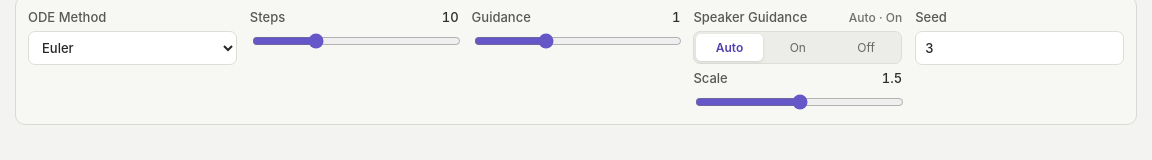
Scenario: GeneratorSettingsPanel › offers Auto, On and Off while showing the resolved Auto state
The image size is (1152, 160).
Expected: the text "Auto · On" is shown, [849,10,902,24]
Expected: the slider named "Scale" is enabled, [695,94,904,110]
Step 1. Click the button "Off" → {"x": 866, "y": 48}, box [833,34,899,61]
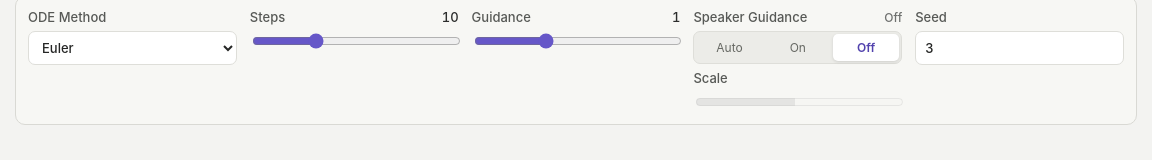
Result: the slider labelled "Scale" is disabled at [695,94,904,110]
Step 2. Click the button "On" → {"x": 798, "y": 48}, box [765,34,831,61]
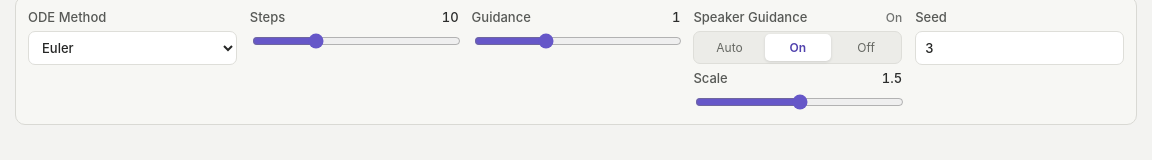
Expected: the slider named "Scale" holds "1.5", [695,94,904,110]
Result: the slider named "Scale" is enabled at [695,94,904,110]
